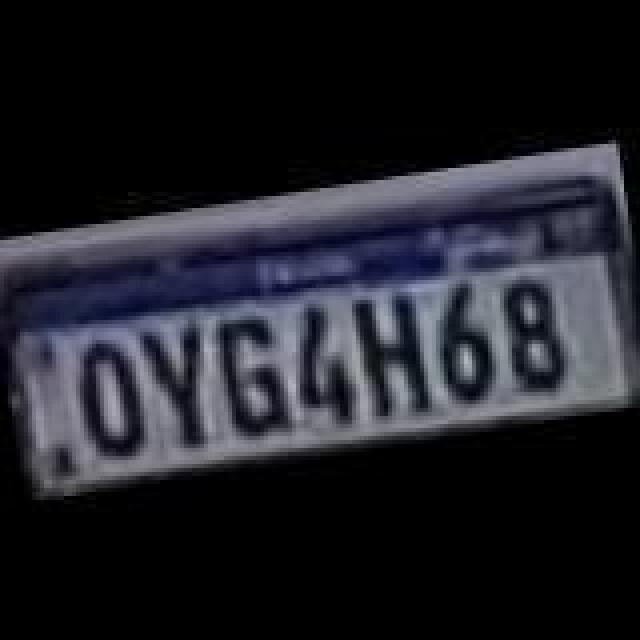4: (278, 290, 362, 430)
6: (424, 280, 504, 408)
8: (496, 264, 576, 392)
G: (204, 308, 292, 444)
H: (346, 284, 438, 420)
O: (62, 330, 146, 462)
Y: (138, 316, 222, 452)
